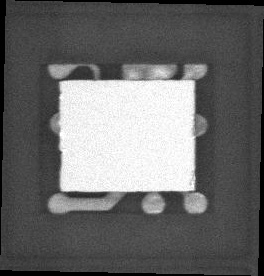DIE_BROKEN: (56, 148, 63, 171)
